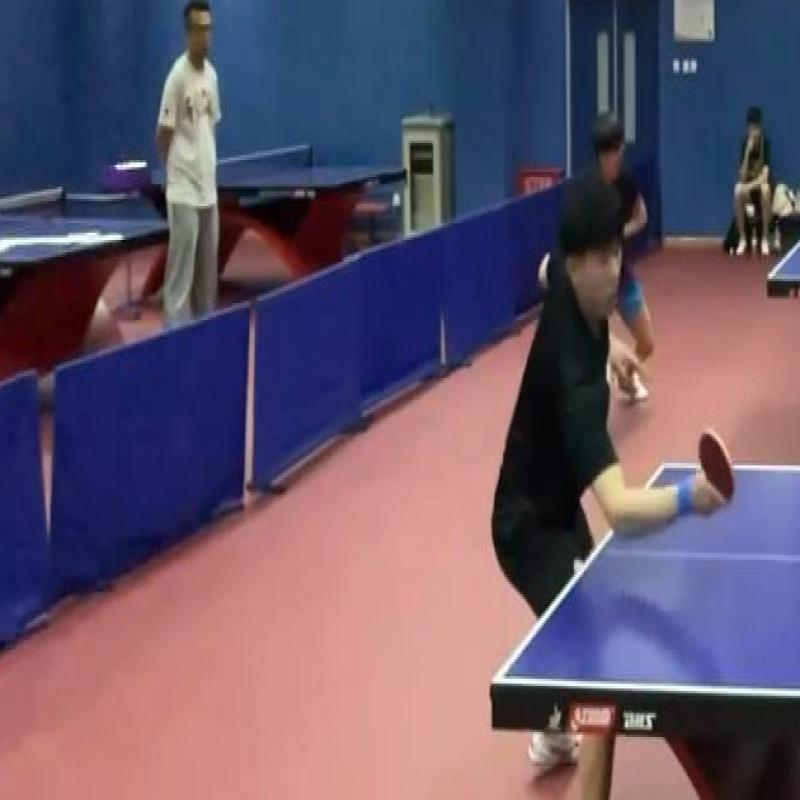bats: (691, 424, 740, 504)
